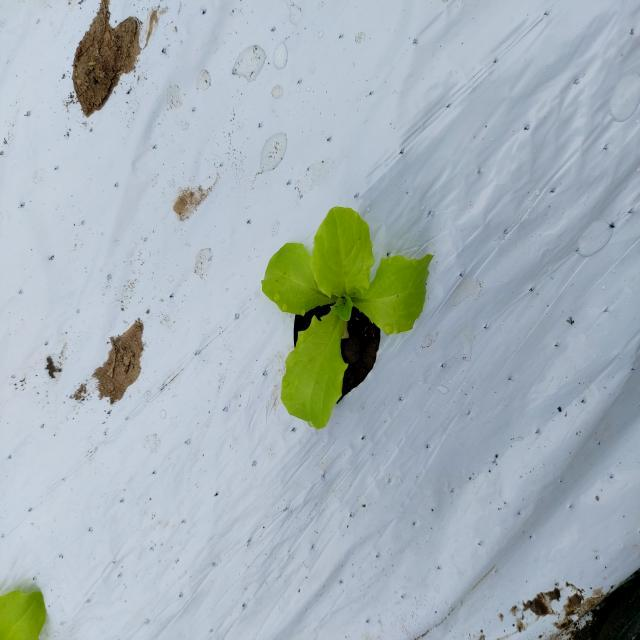Lettuce-Not-Ready-to-Harvest: (262, 208, 431, 428)
